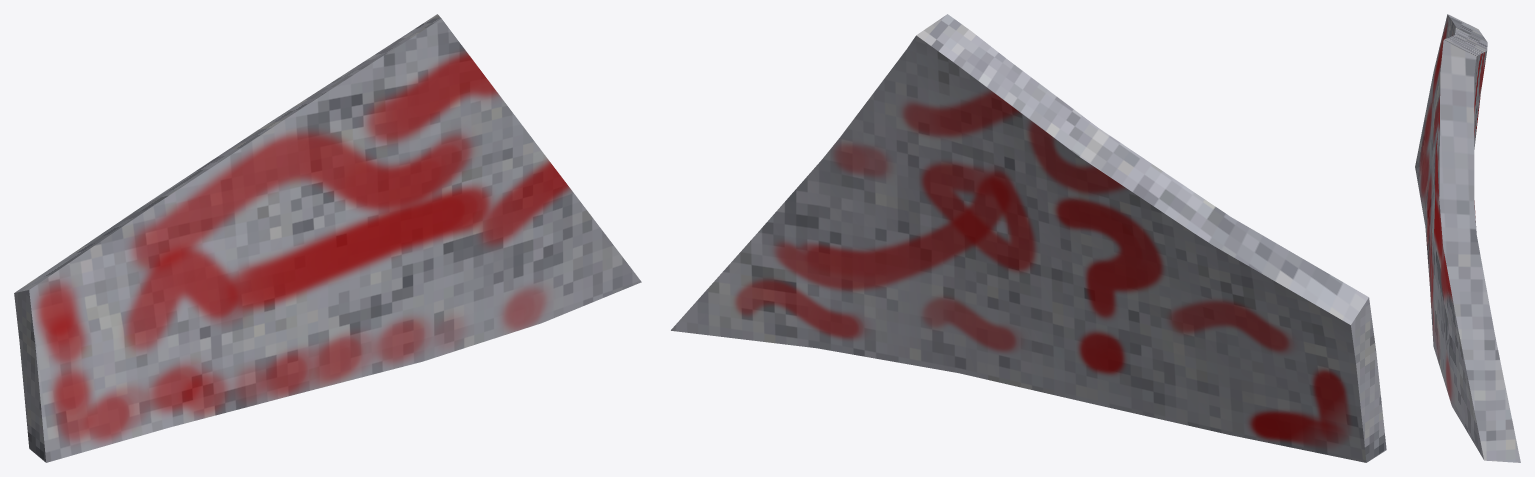
The model's file is map3.fbx.
3 views of the same model, side by side, from view 1: azimuth 30°, elevation 25°; view 2: azimuth 150°, elevation 25°; view 3: azimuth 270°, elevation 25° (orthographic). The views are drawn at different scales.
Parts seen in each view (by area): view 1: Cube; view 2: Cube; view 3: Cube.
Part boxes in pixels (x1,y1,x2,y2): Cube: [14, 14, 641, 462]; Cube: [671, 14, 1386, 462]; Cube: [1415, 14, 1520, 462].
Size of the model in its own units: 422 by 211 by 63.67.
